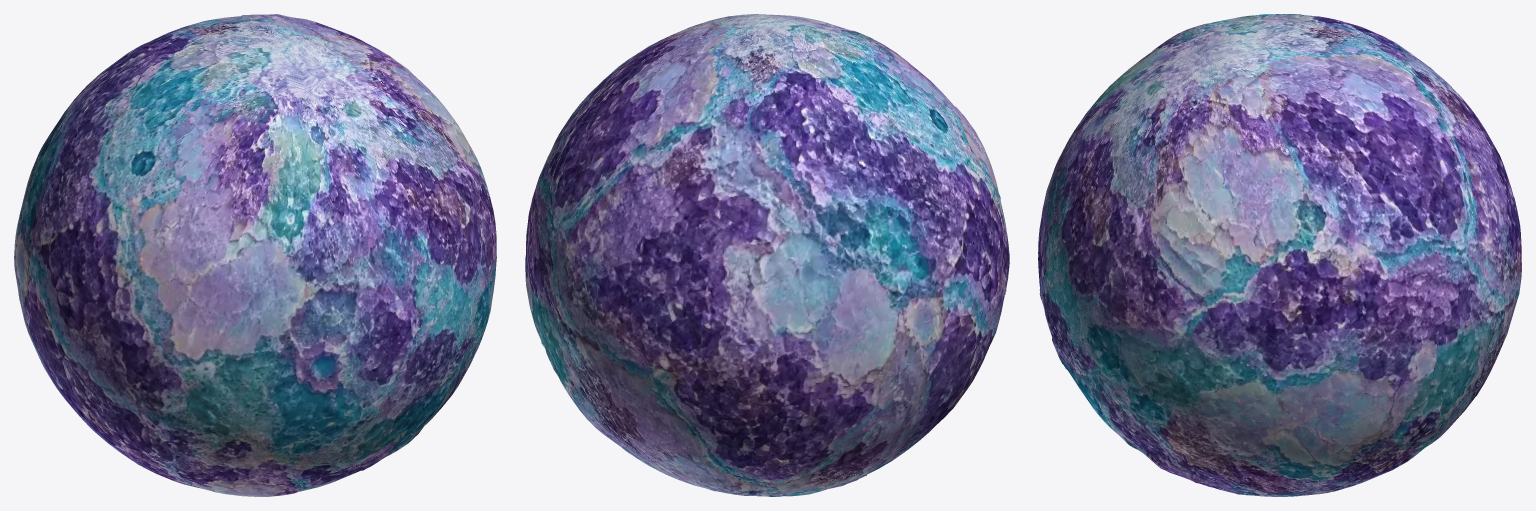
File: planet_9.glb
The picture shows the model from 3 angles, left to right: view 1: azimuth 30°, elevation 25°; view 2: azimuth 150°, elevation 25°; view 3: azimuth 270°, elevation 25°; orthographic projection.
Parts seen in each view (by area): view 1: Mesh_0.001; view 2: Mesh_0.001; view 3: Mesh_0.001.
Part boxes in pixels (x1,y1,x2,y2): Mesh_0.001: (14,14,496,496); Mesh_0.001: (525,14,1009,496); Mesh_0.001: (1038,14,1521,496).
Size of the model in its own units: 1.9 by 1.9 by 1.9.
Materials: 1 (1 with a texture image).
